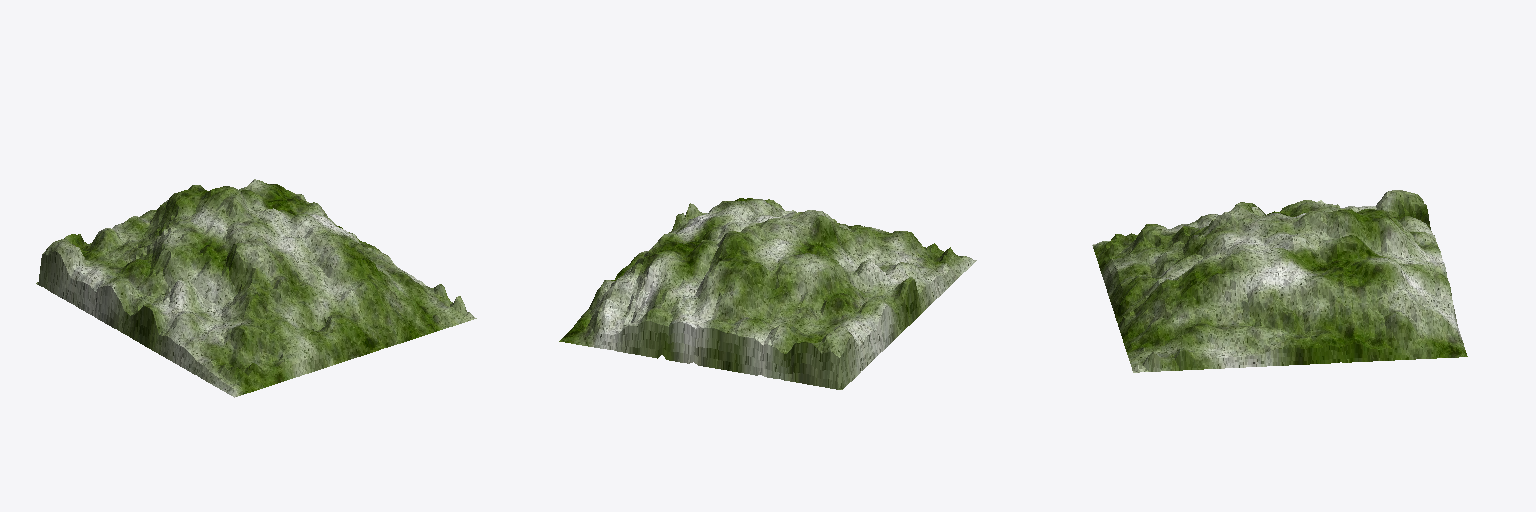
The picture shows the model from 3 angles: view 1: azimuth 30°, elevation 25°; view 2: azimuth 150°, elevation 25°; view 3: azimuth 270°, elevation 25°; orthographic projection.
Parts seen in each view (by area): view 1: Object_majestic_mountain_mtl1_diffcol.jpg; view 2: Object_majestic_mountain_mtl1_diffcol.jpg; view 3: Object_majestic_mountain_mtl1_diffcol.jpg.
Boxes of the visible parts, x1=… form: Object_majestic_mountain_mtl1_diffcol.jpg: x1=36, y1=179, x2=476, y2=397; Object_majestic_mountain_mtl1_diffcol.jpg: x1=559, y1=198, x2=976, y2=389; Object_majestic_mountain_mtl1_diffcol.jpg: x1=1092, y1=190, x2=1467, y2=372.
Bounding box in the file's own units: 2.27 × 0.6577 × 2.5.
Materials: 2 (1 with a texture image).